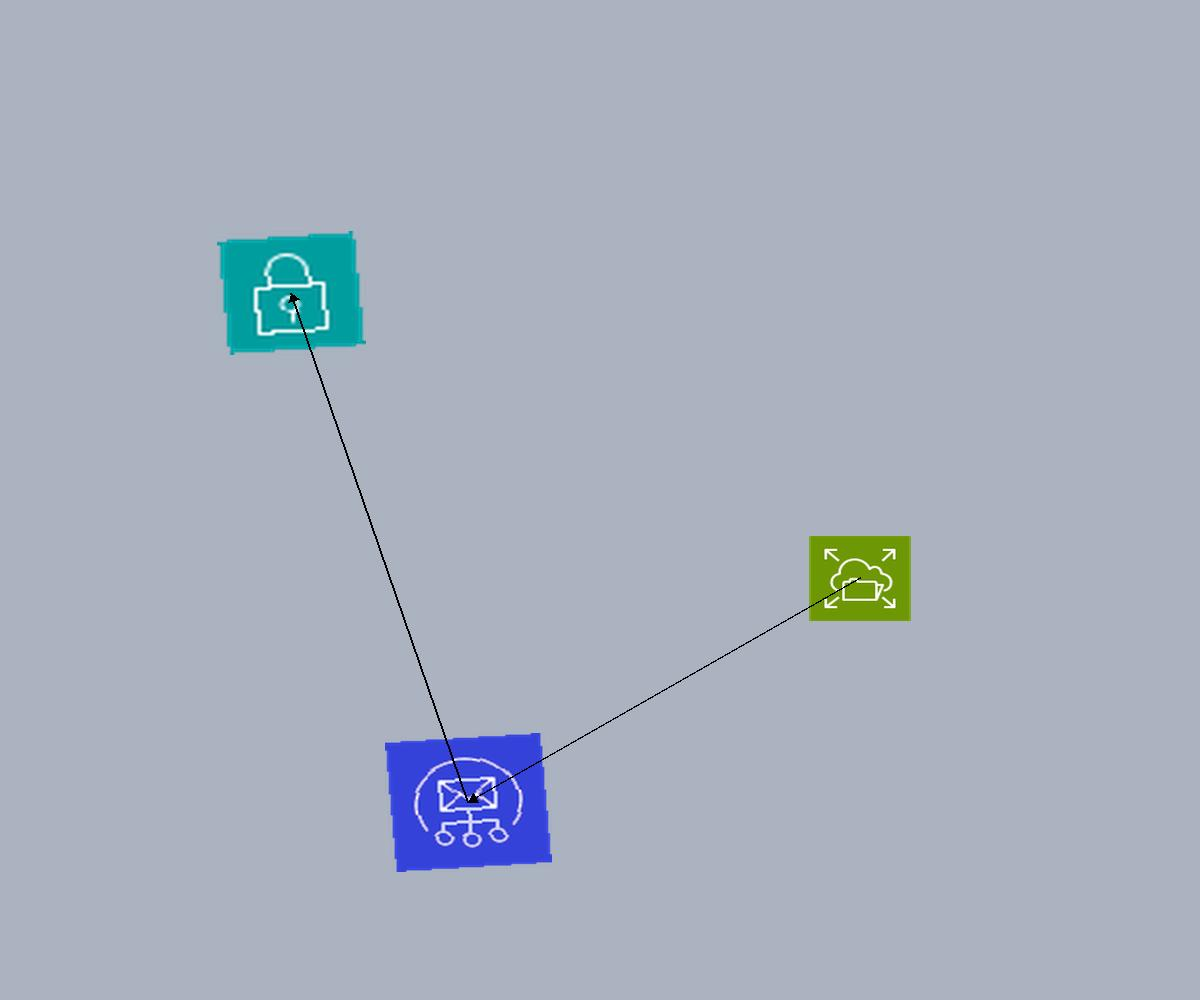AWS-EFS: (808, 535, 912, 622)
AWS-Private-subnet: (217, 231, 366, 355)
AWS-Simple-Email-Service: (385, 733, 552, 872)
